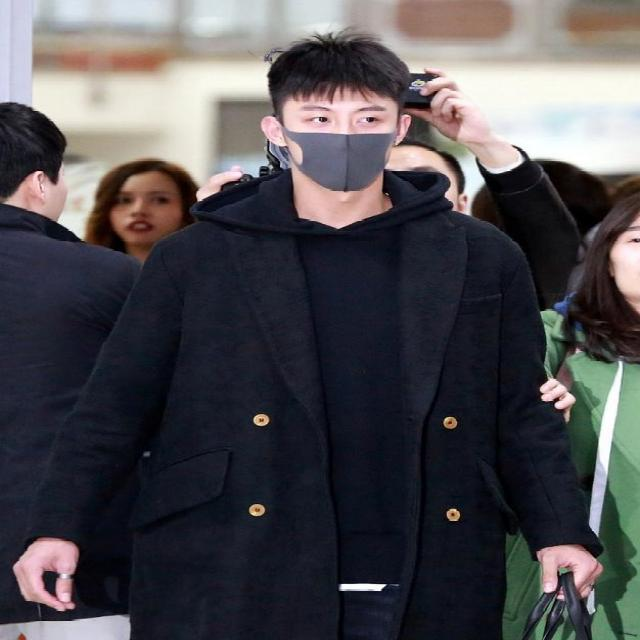mask: (282, 65, 397, 195)
nomask: (110, 172, 178, 246), (612, 215, 639, 300)
